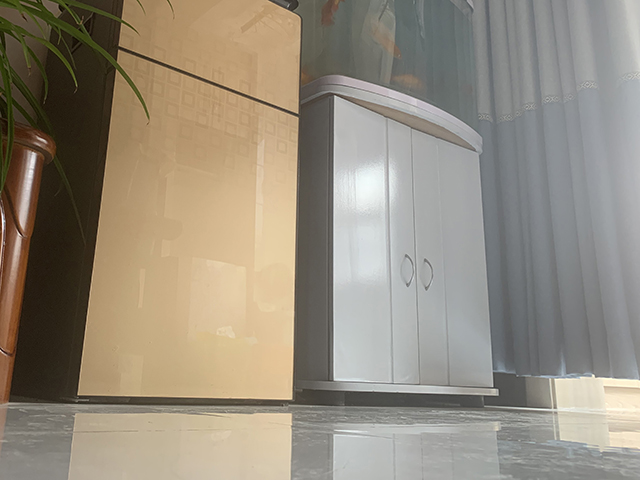cabinet: (9, 1, 303, 407), (294, 75, 500, 409)
curtain: (472, 1, 640, 381)
